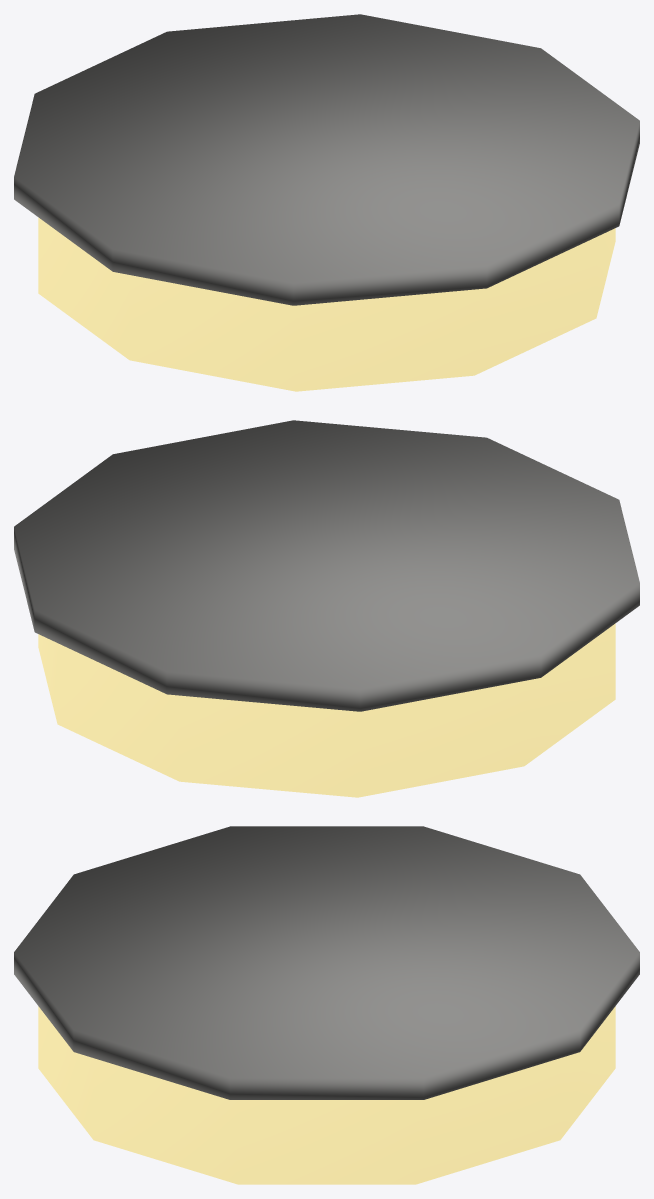
File: Light_Ceiling6.glb
The picture shows the model from 3 angles, top to bottom: view 1: azimuth 30°, elevation 25°; view 2: azimuth 150°, elevation 25°; view 3: azimuth 270°, elevation 25°; orthographic projection. The views are drawn at different scales.
Parts seen in each view (by area): view 1: Light_Ceiling6; view 2: Light_Ceiling6; view 3: Light_Ceiling6.
Part boxes in pixels (box(x1,y1,x2,y2)): Light_Ceiling6: box(14, 14, 639, 391); Light_Ceiling6: box(14, 420, 639, 797); Light_Ceiling6: box(14, 826, 639, 1184).
Bounding box in the file's own units: 0.5311 × 0.1287 × 0.5584.
